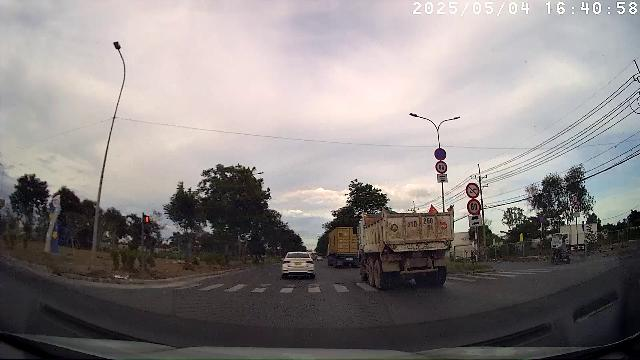127-toc-do-toi-da-60: (467, 199, 481, 215)
127-toc-do-toi-da-80: (436, 161, 448, 174)
130-cam-dung-va-do-xe: (434, 148, 447, 160)
